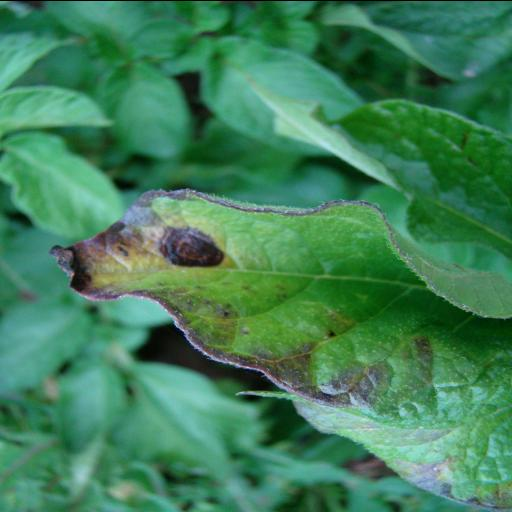Early Blight: (45, 186, 512, 512)
